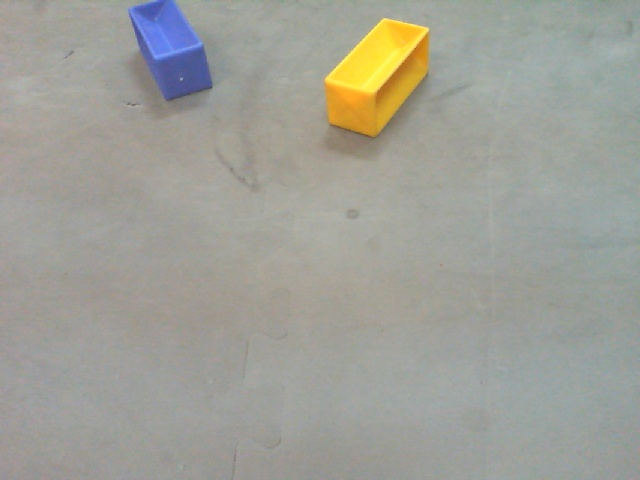BlueSample: (124, 1, 214, 103)
YellowSample: (323, 17, 431, 142)
